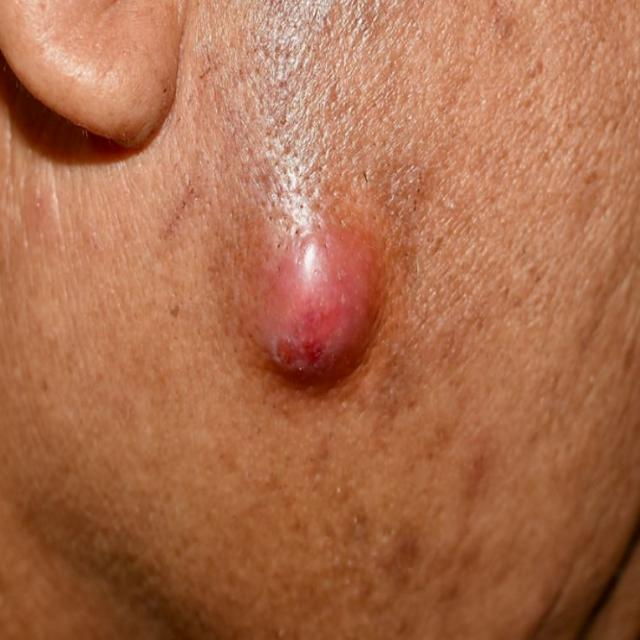nodule: (258, 218, 386, 396)
